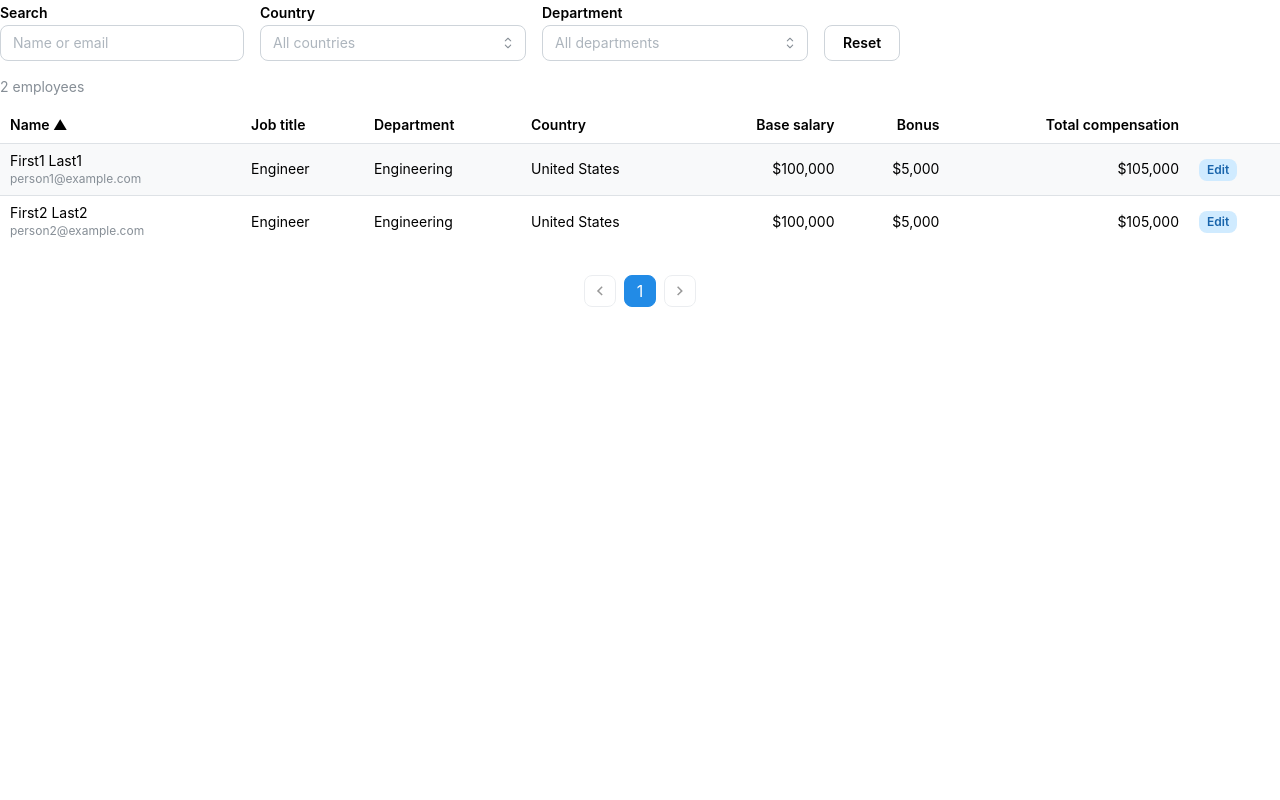
Test: DirectoryPage › editing salary › closes the modal and reloads the list after saving
This screenshot has width=1280, height=800.
Expected: the text "First1 Last1" is shown, [10,152,82,169]
Click the button with aria-label "Edit salary for First1 Last1" at (1218, 170), box [1199,159,1237,181]
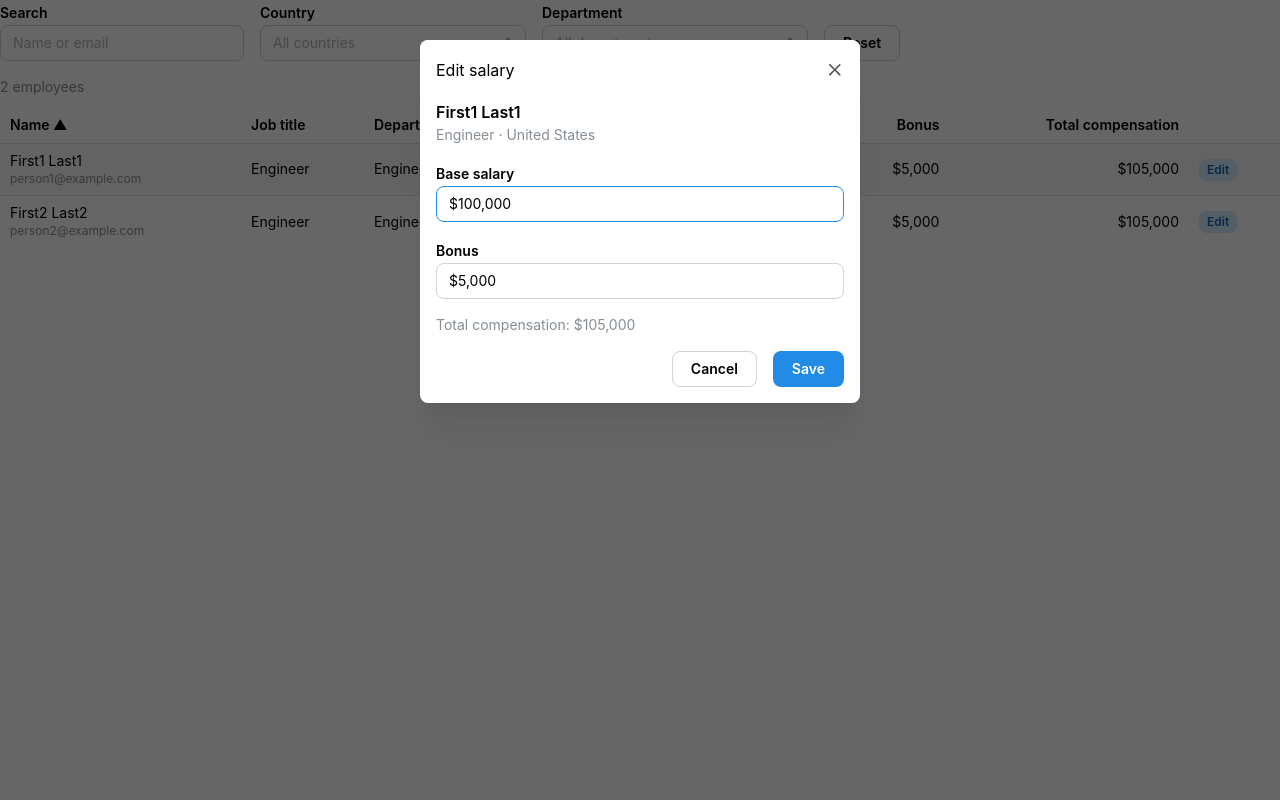
Click the button "Save" at (808, 369), box [773,351,844,387]
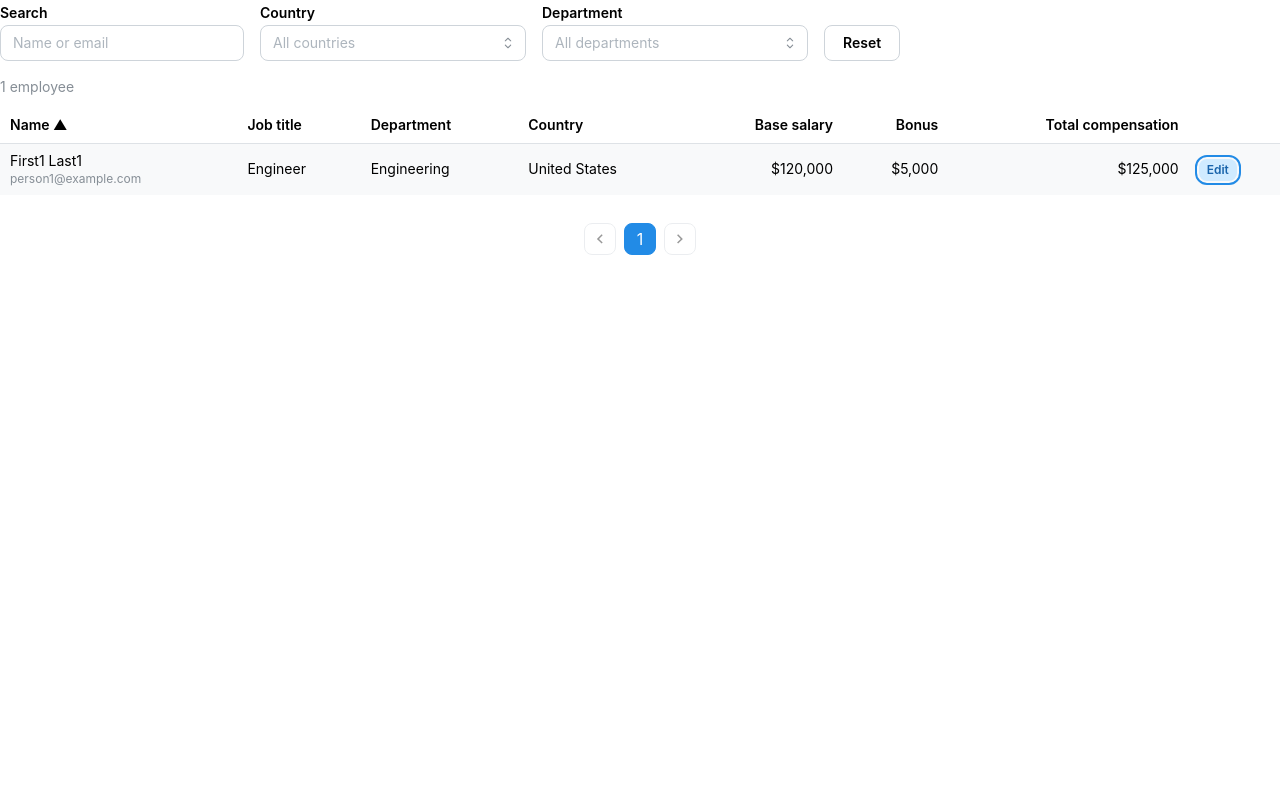
Expected: the text "$125,000" is shown, [948,143,1189,195]
Expected: the dialog is gone
